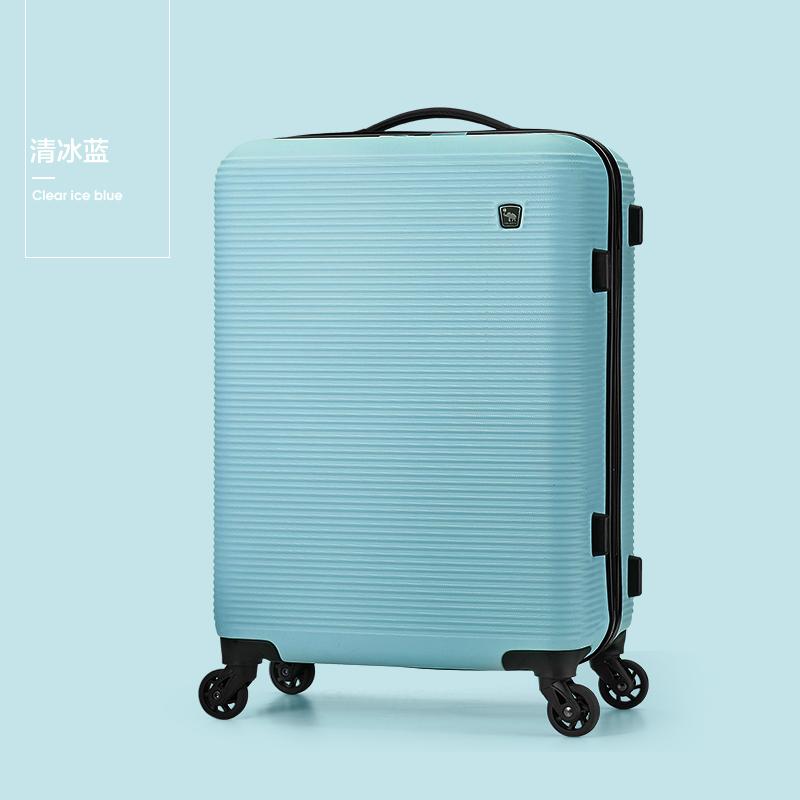box: (214, 132, 634, 671)
handle: (348, 108, 517, 133)
wheel: (547, 684, 600, 738), (598, 659, 650, 710), (198, 669, 249, 720), (269, 660, 316, 695)
